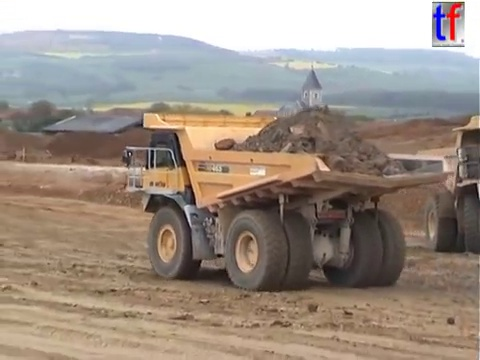truck: (118, 109, 455, 293), (409, 113, 480, 256)
